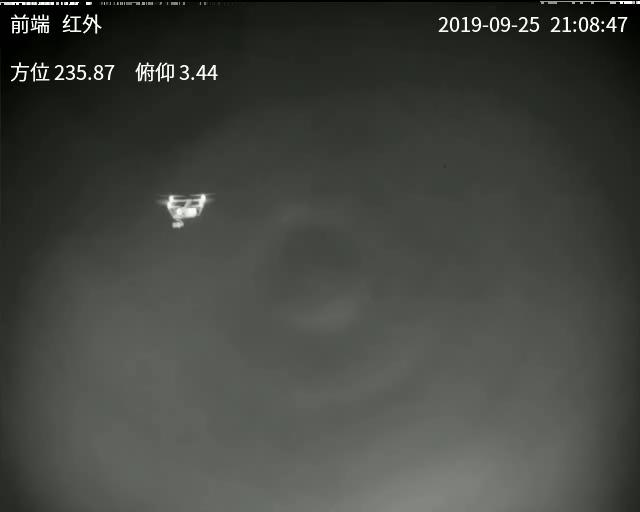uav: (162, 191, 208, 233)
